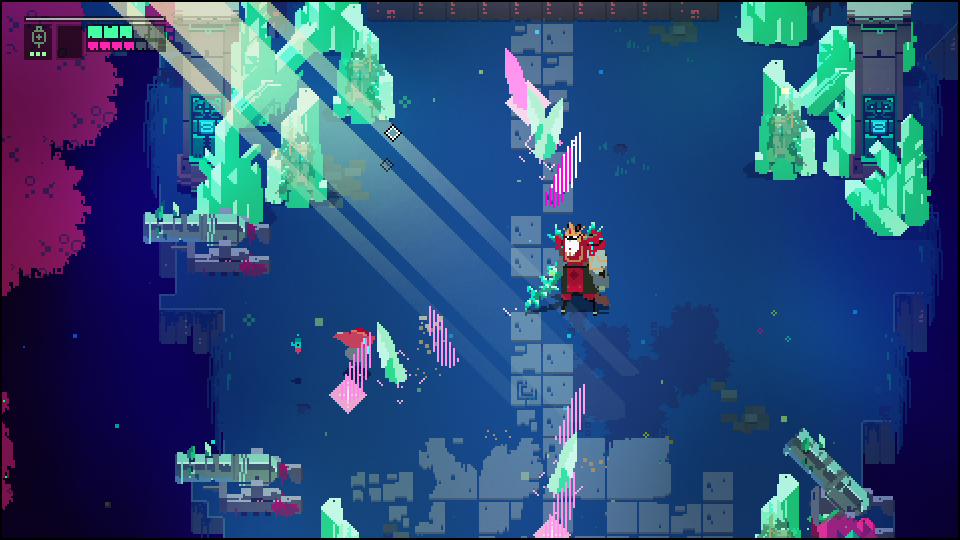hanged_crys: (549, 132, 590, 208), (422, 302, 462, 374), (373, 324, 414, 388), (524, 92, 564, 156), (553, 380, 587, 440), (548, 435, 577, 498), (500, 51, 530, 109)
hanged_man: (516, 217, 614, 321)
player: (337, 324, 372, 370)
